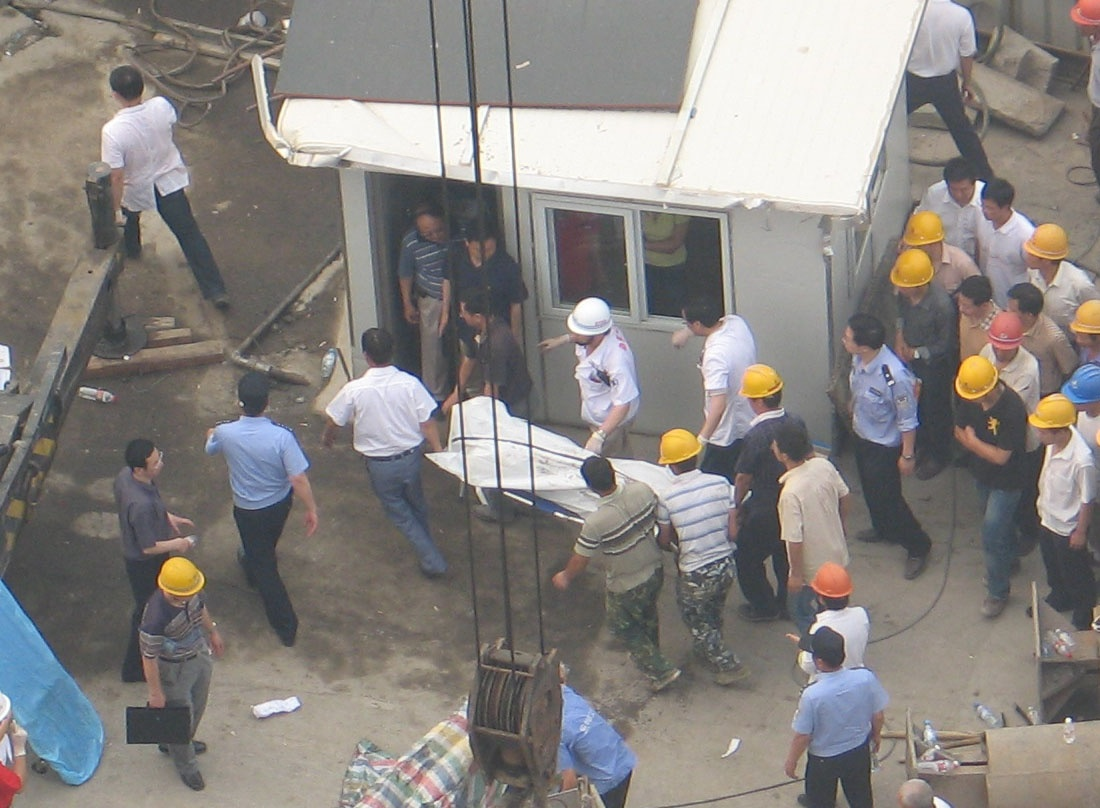blue: (1066, 364, 1100, 415)
none: (803, 626, 848, 673), (766, 419, 808, 468), (839, 313, 883, 359), (230, 371, 274, 416), (941, 155, 977, 206), (978, 177, 1015, 225), (1004, 280, 1044, 324), (683, 290, 721, 335), (123, 437, 164, 477), (107, 64, 145, 107), (463, 218, 498, 262), (957, 272, 991, 317), (358, 324, 394, 366), (414, 199, 447, 243), (583, 450, 616, 493), (461, 287, 493, 323)
red: (810, 565, 852, 611), (984, 312, 1026, 356)
white: (565, 297, 611, 348)
yellow: (1028, 397, 1075, 447), (743, 362, 787, 413), (1025, 222, 1070, 270), (158, 558, 202, 607), (955, 356, 999, 404), (893, 250, 934, 300), (902, 210, 944, 254), (1071, 298, 1100, 357), (660, 429, 697, 472)
